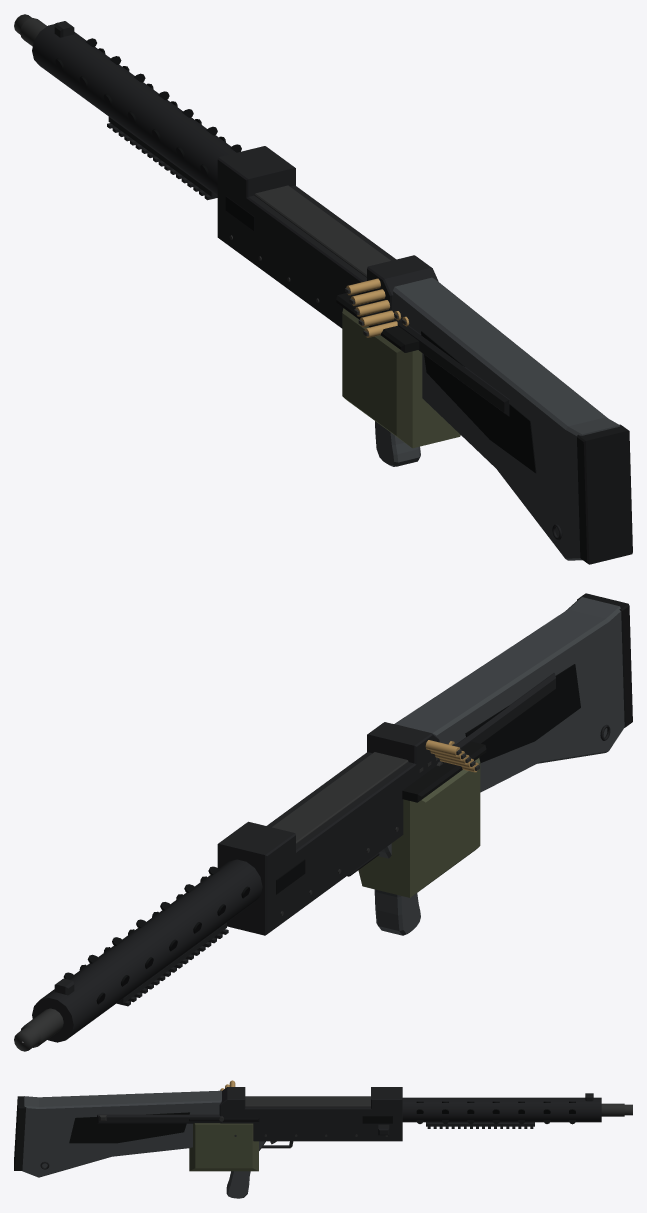
File: weapon-30-B6nzd8JZ.glb
3 views of the same model, one above another, from view 1: azimuth 30°, elevation 25°; view 2: azimuth 150°, elevation 25°; view 3: azimuth 270°, elevation 25° (orthographic). The views are drawn at different scales.
Visible parts, largest first — view 1: salient_weapon_body, salient_weapon_magazine, salient_weapon_cover; view 2: salient_weapon_body, salient_weapon_magazine, salient_weapon_cover; view 3: salient_weapon_body, salient_weapon_magazine, salient_weapon_cover.
Part boxes in pixels (x1,y1,x2,y2): salient_weapon_body: (14,14,632,564); salient_weapon_magazine: (336,278,460,448); salient_weapon_cover: (391,318,509,416); salient_weapon_body: (14,593,632,1051); salient_weapon_magazine: (358,740,486,897); salient_weapon_cover: (436,673,555,766); salient_weapon_body: (14,1087,632,1198); salient_weapon_magazine: (189,1080,259,1171); salient_weapon_cover: (97,1114,223,1123).
Bounding box in the file's own units: 0.102 × 0.1877 × 1.02.
